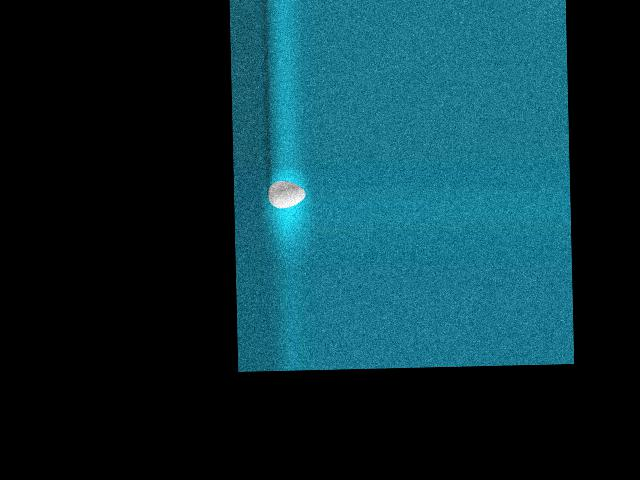egg: (267, 179, 305, 208)
